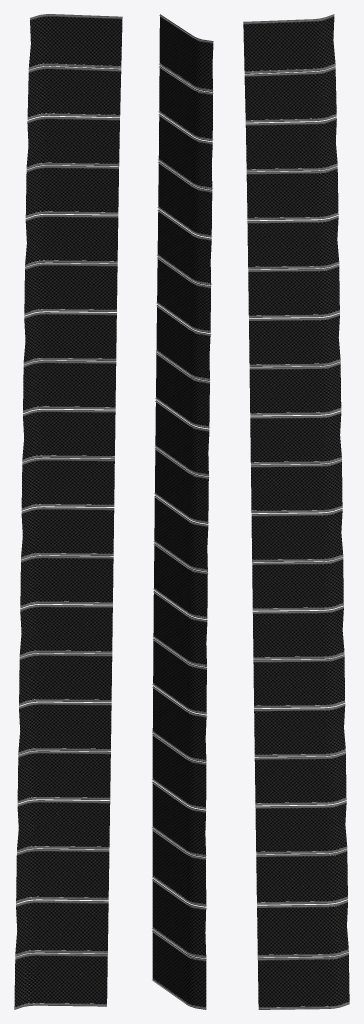
File: _1WALL_small_metal_01_01_002_SUB0.obj
3 renders of one model, left to right at view 1: azimuth 90°, elevation 25°; view 2: azimuth 210°, elevation 25°; view 3: azimuth 270°, elevation 25°, orthographic. The views are drawn at different scales.
Visible parts, largest first — view 1: _1WALL_small_metal_01_01_002_SUB0_Scene.356; view 2: _1WALL_small_metal_01_01_002_SUB0_Scene.356; view 3: _1WALL_small_metal_01_01_002_SUB0_Scene.356.
Part boxes in pixels (x1,y1,x2,y2): _1WALL_small_metal_01_01_002_SUB0_Scene.356: [14, 14, 122, 1009]; _1WALL_small_metal_01_01_002_SUB0_Scene.356: [151, 14, 213, 1009]; _1WALL_small_metal_01_01_002_SUB0_Scene.356: [243, 14, 349, 1009].
Size of the model in its own units: 115 by 4069 by 398.
